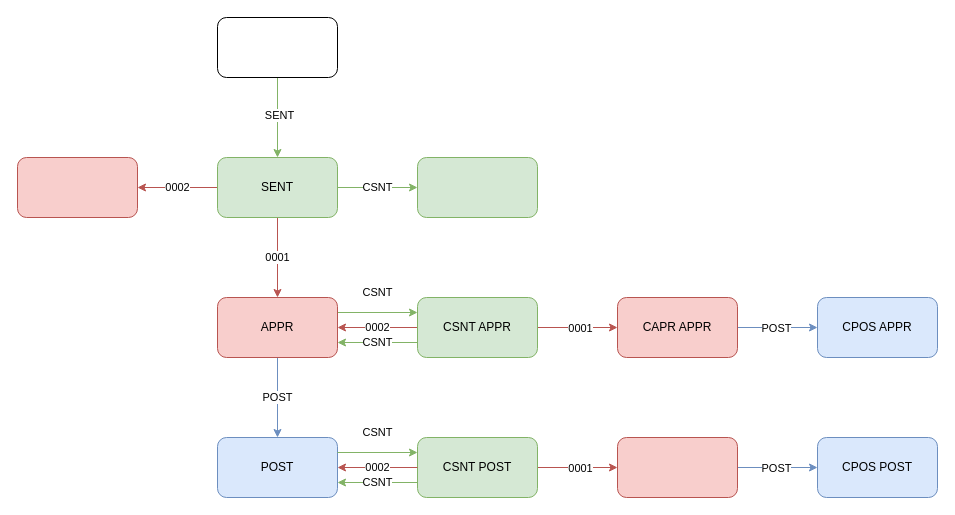
The diagram is 955 pixels wide and 515 high, and some of its shapes have lost their labels. The box of each missing label's shape, as (x1, y1, x2, y2) in pixels:
CAPR POST: (616, 436, 738, 498)
CDEL SENT: (416, 156, 538, 218)
INIT: (216, 16, 338, 78)
REJE: (16, 156, 138, 218)
